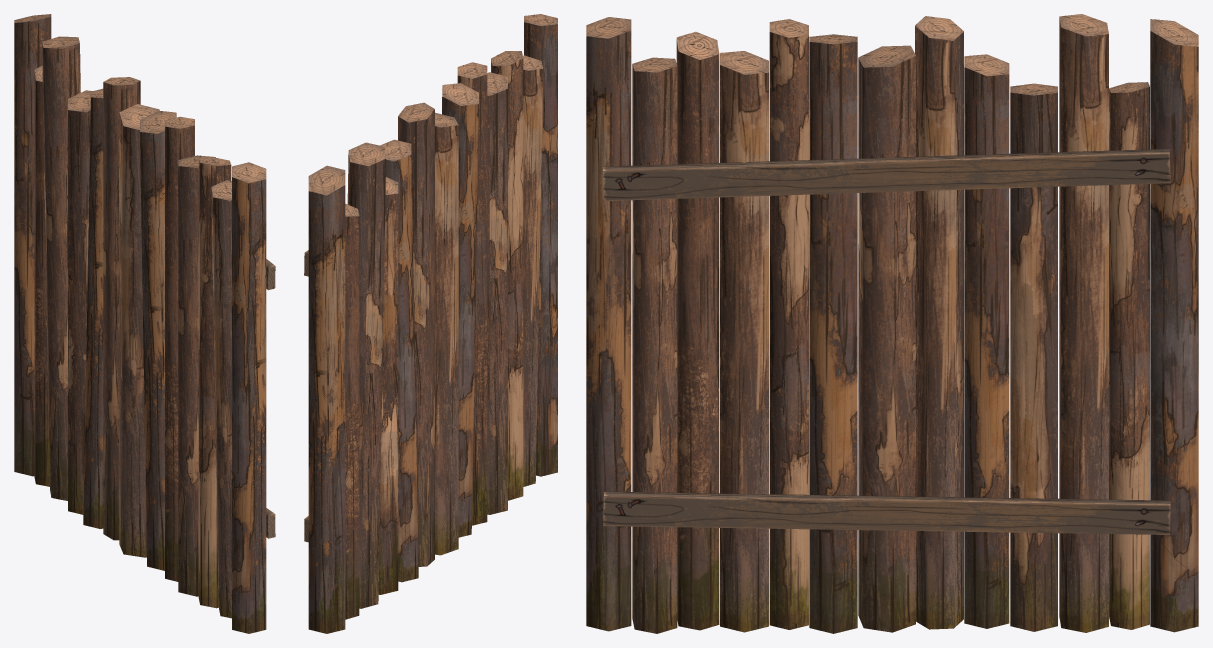
File: fence_log_4m_A.fbx
3 renders of one model, left to right at view 1: azimuth 30°, elevation 25°; view 2: azimuth 150°, elevation 25°; view 3: azimuth 270°, elevation 25°, orthographic. The views are drawn at different scales.
Parts seen in each view (by area): view 1: fence_log_4m_A; view 2: fence_log_4m_A; view 3: fence_log_4m_A.
Part boxes in pixels (x1,y1,x2,y2): fence_log_4m_A: [14, 14, 275, 633]; fence_log_4m_A: [304, 14, 557, 633]; fence_log_4m_A: [586, 14, 1198, 633].
Size of the model in its own units: 48.41 by 430 by 400.
